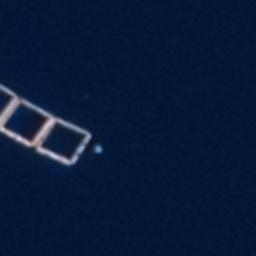square_solid: (29, 111, 97, 174), (1, 93, 53, 156), (1, 80, 25, 134)
